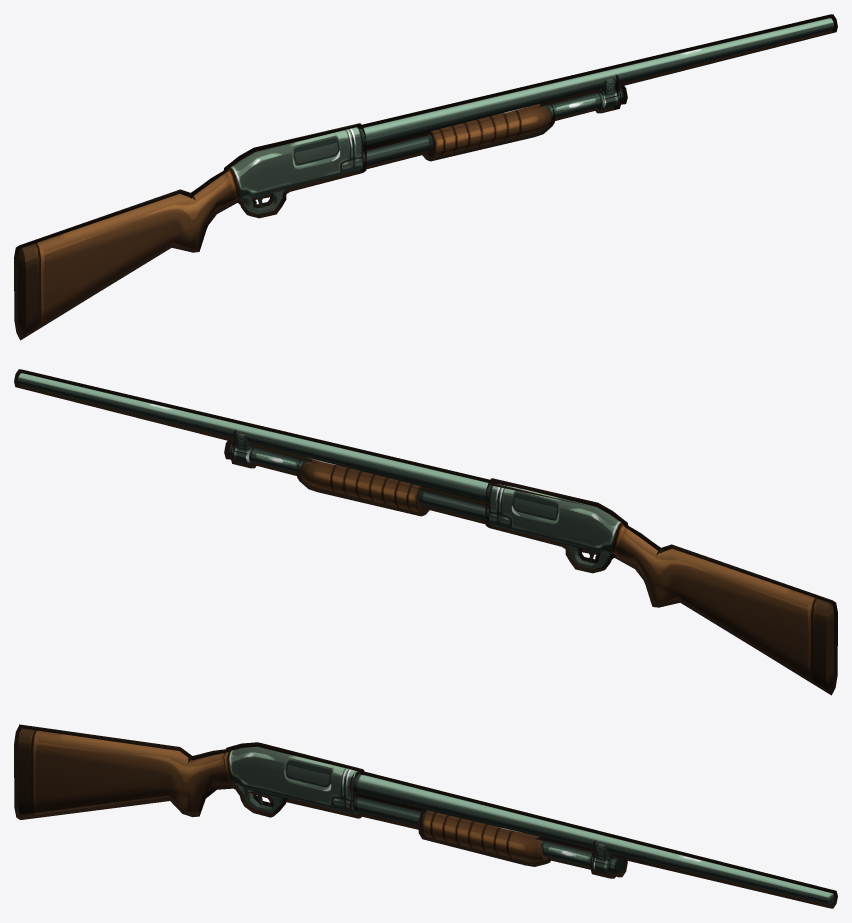
Rendered from Winchester_1912.FBX.
The picture shows the model from 3 angles, top to bottom: view 1: azimuth 30°, elevation 25°; view 2: azimuth 150°, elevation 25°; view 3: azimuth 330°, elevation 25°; orthographic projection.
Visible parts, largest first — view 1: Winchester1912; view 2: Winchester1912; view 3: Winchester1912.
Part boxes in pixels (<box>): Winchester1912: <box>14,14,837,340</box>; Winchester1912: <box>14,369,837,695</box>; Winchester1912: <box>14,724,837,908</box>.
Size of the model in its own units: 126 by 4.49 by 20.02.
